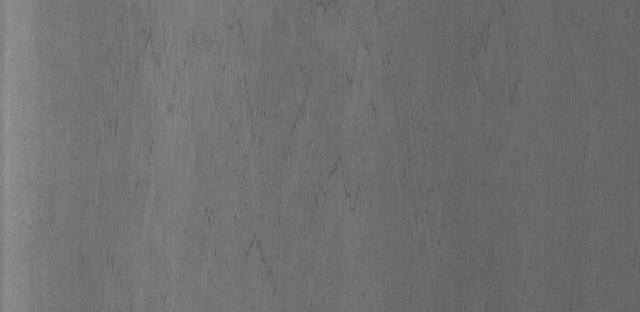silk_spot: (179, 7, 428, 278)
